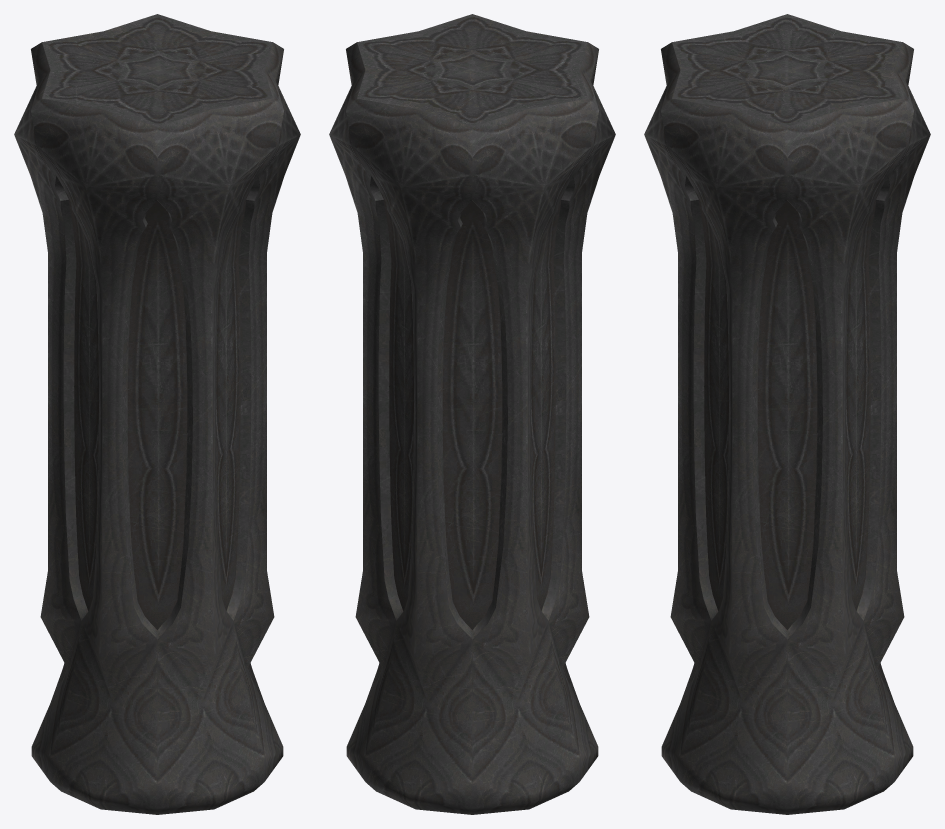
Rendered from bg_rad_kamen_pillar07c_sm.obj.
3 renders of one model, left to right at view 1: azimuth 30°, elevation 25°; view 2: azimuth 150°, elevation 25°; view 3: azimuth 270°, elevation 25°, orthographic.
Parts seen in each view (by area): view 1: bg_rad_kamen_pillar07c_sm_0; view 2: bg_rad_kamen_pillar07c_sm_0; view 3: bg_rad_kamen_pillar07c_sm_0.
Part boxes in pixels (x1,y1,x2,y2): bg_rad_kamen_pillar07c_sm_0: (14, 14, 300, 814); bg_rad_kamen_pillar07c_sm_0: (329, 14, 615, 814); bg_rad_kamen_pillar07c_sm_0: (644, 14, 930, 814).
Bounding box in the file's own units: 1.32 × 3.47 × 1.29.
1 material, 1 textured.
